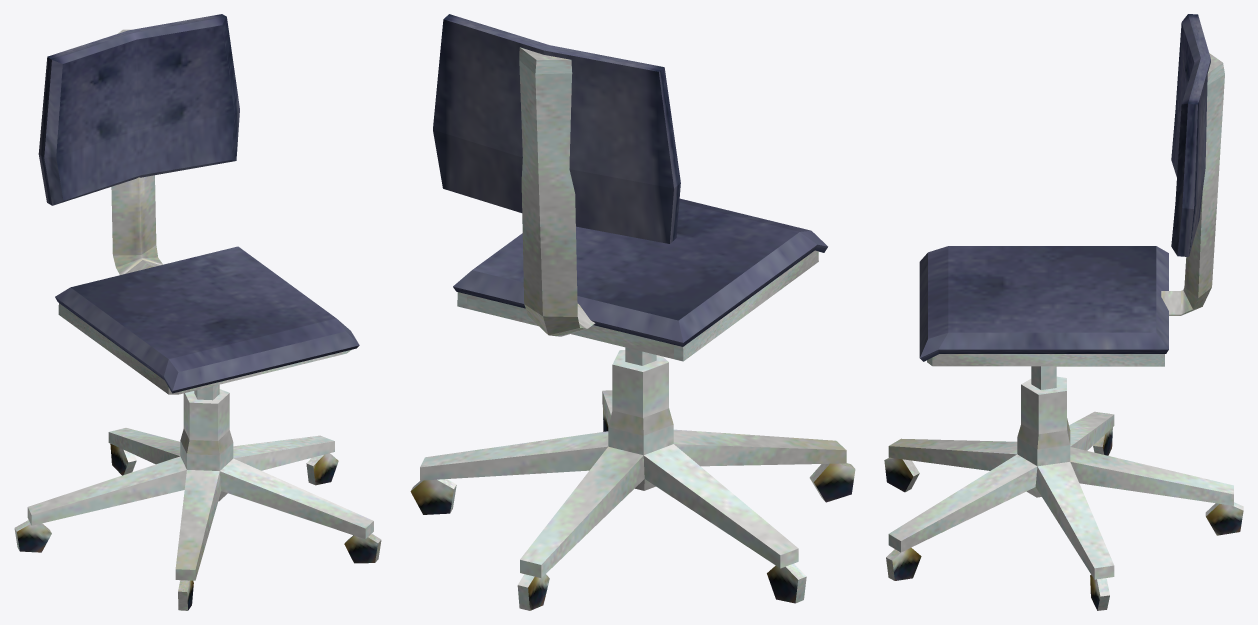
Rendered from office_chair_blue_alt.fbx.
3 renders of one model, left to right at view 1: azimuth 30°, elevation 25°; view 2: azimuth 150°, elevation 25°; view 3: azimuth 270°, elevation 25°, orthographic. The views are drawn at different scales.
Visible parts, largest first — view 1: office_chair_blue_alt; view 2: office_chair_blue_alt; view 3: office_chair_blue_alt.
Boxes of the visible parts, x1=… form: office_chair_blue_alt: x1=14, y1=14, x2=381, y2=610; office_chair_blue_alt: x1=410, y1=14, x2=855, y2=610; office_chair_blue_alt: x1=884, y1=14, x2=1243, y2=610.
Bounding box in the file's own units: 81.96 × 110 × 75.13.
1 material, 1 textured.
